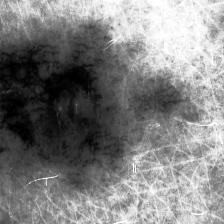Benign Marking or Mole: (0, 23, 194, 182)
